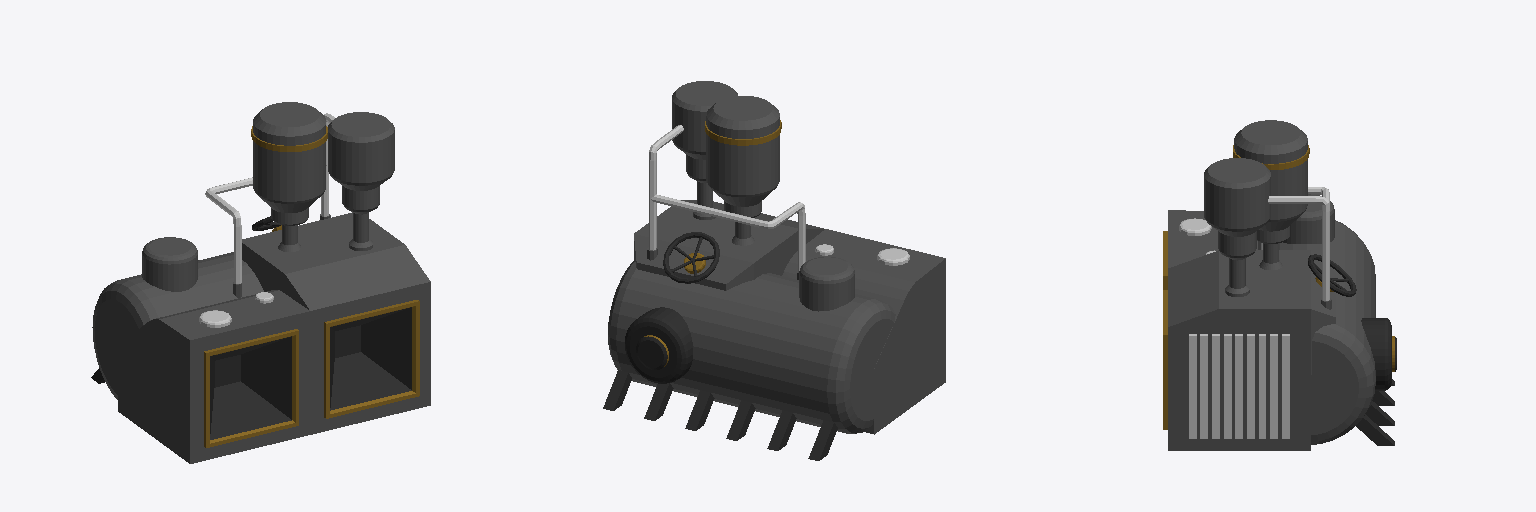
File: PlasticRecycler.obj
The picture shows the model from 3 angles: view 1: azimuth 30°, elevation 25°; view 2: azimuth 150°, elevation 25°; view 3: azimuth 270°, elevation 25°; orthographic projection.
Parts seen in each view (by area): view 1: Cube, Cylinder.005, Cylinder, Cylinder.006, Cylinder.004, Cylinder.012; view 2: Cylinder, Cube, Cylinder.005, Cylinder.009, Cube.002, Cylinder.006, Cylinder.004, Cylinder.012, Cylinder.011, Cylinder.010; view 3: Cube, Cylinder, Cube.001, Cylinder.006, Cylinder.005, Cylinder.009, Cylinder.010, Cylinder.004, Cube.002, Cylinder.011.
Boxes of the visible parts, x1,y1,x2,y2 form: Cube: [118, 212, 430, 463]; Cylinder.005: [251, 102, 327, 251]; Cylinder: [92, 252, 263, 399]; Cylinder.006: [328, 112, 394, 250]; Cylinder.004: [142, 237, 197, 291]; Cylinder.012: [205, 165, 326, 297]; Cylinder: [608, 260, 895, 433]; Cube: [634, 200, 945, 434]; Cylinder.005: [705, 96, 781, 245]; Cylinder.009: [625, 307, 692, 383]; Cube.002: [603, 369, 837, 460]; Cylinder.006: [672, 81, 737, 219]; Cylinder.004: [799, 257, 854, 311]; Cylinder.012: [651, 194, 805, 279]; Cylinder.011: [663, 232, 719, 283]; Cylinder.010: [647, 125, 683, 260]; Cube: [1163, 210, 1335, 450]; Cylinder: [1258, 220, 1375, 444]; Cube.001: [1189, 334, 1289, 438]; Cylinder.006: [1204, 158, 1270, 296]; Cylinder.005: [1233, 120, 1309, 269]; Cylinder.009: [1361, 318, 1396, 390]; Cylinder.010: [1268, 196, 1331, 309]; Cylinder.004: [1283, 194, 1334, 243]; Cube.002: [1356, 379, 1394, 445]; Cylinder.011: [1308, 254, 1356, 296].
Size of the model in its own units: 2.7 by 2.91 by 2.25.